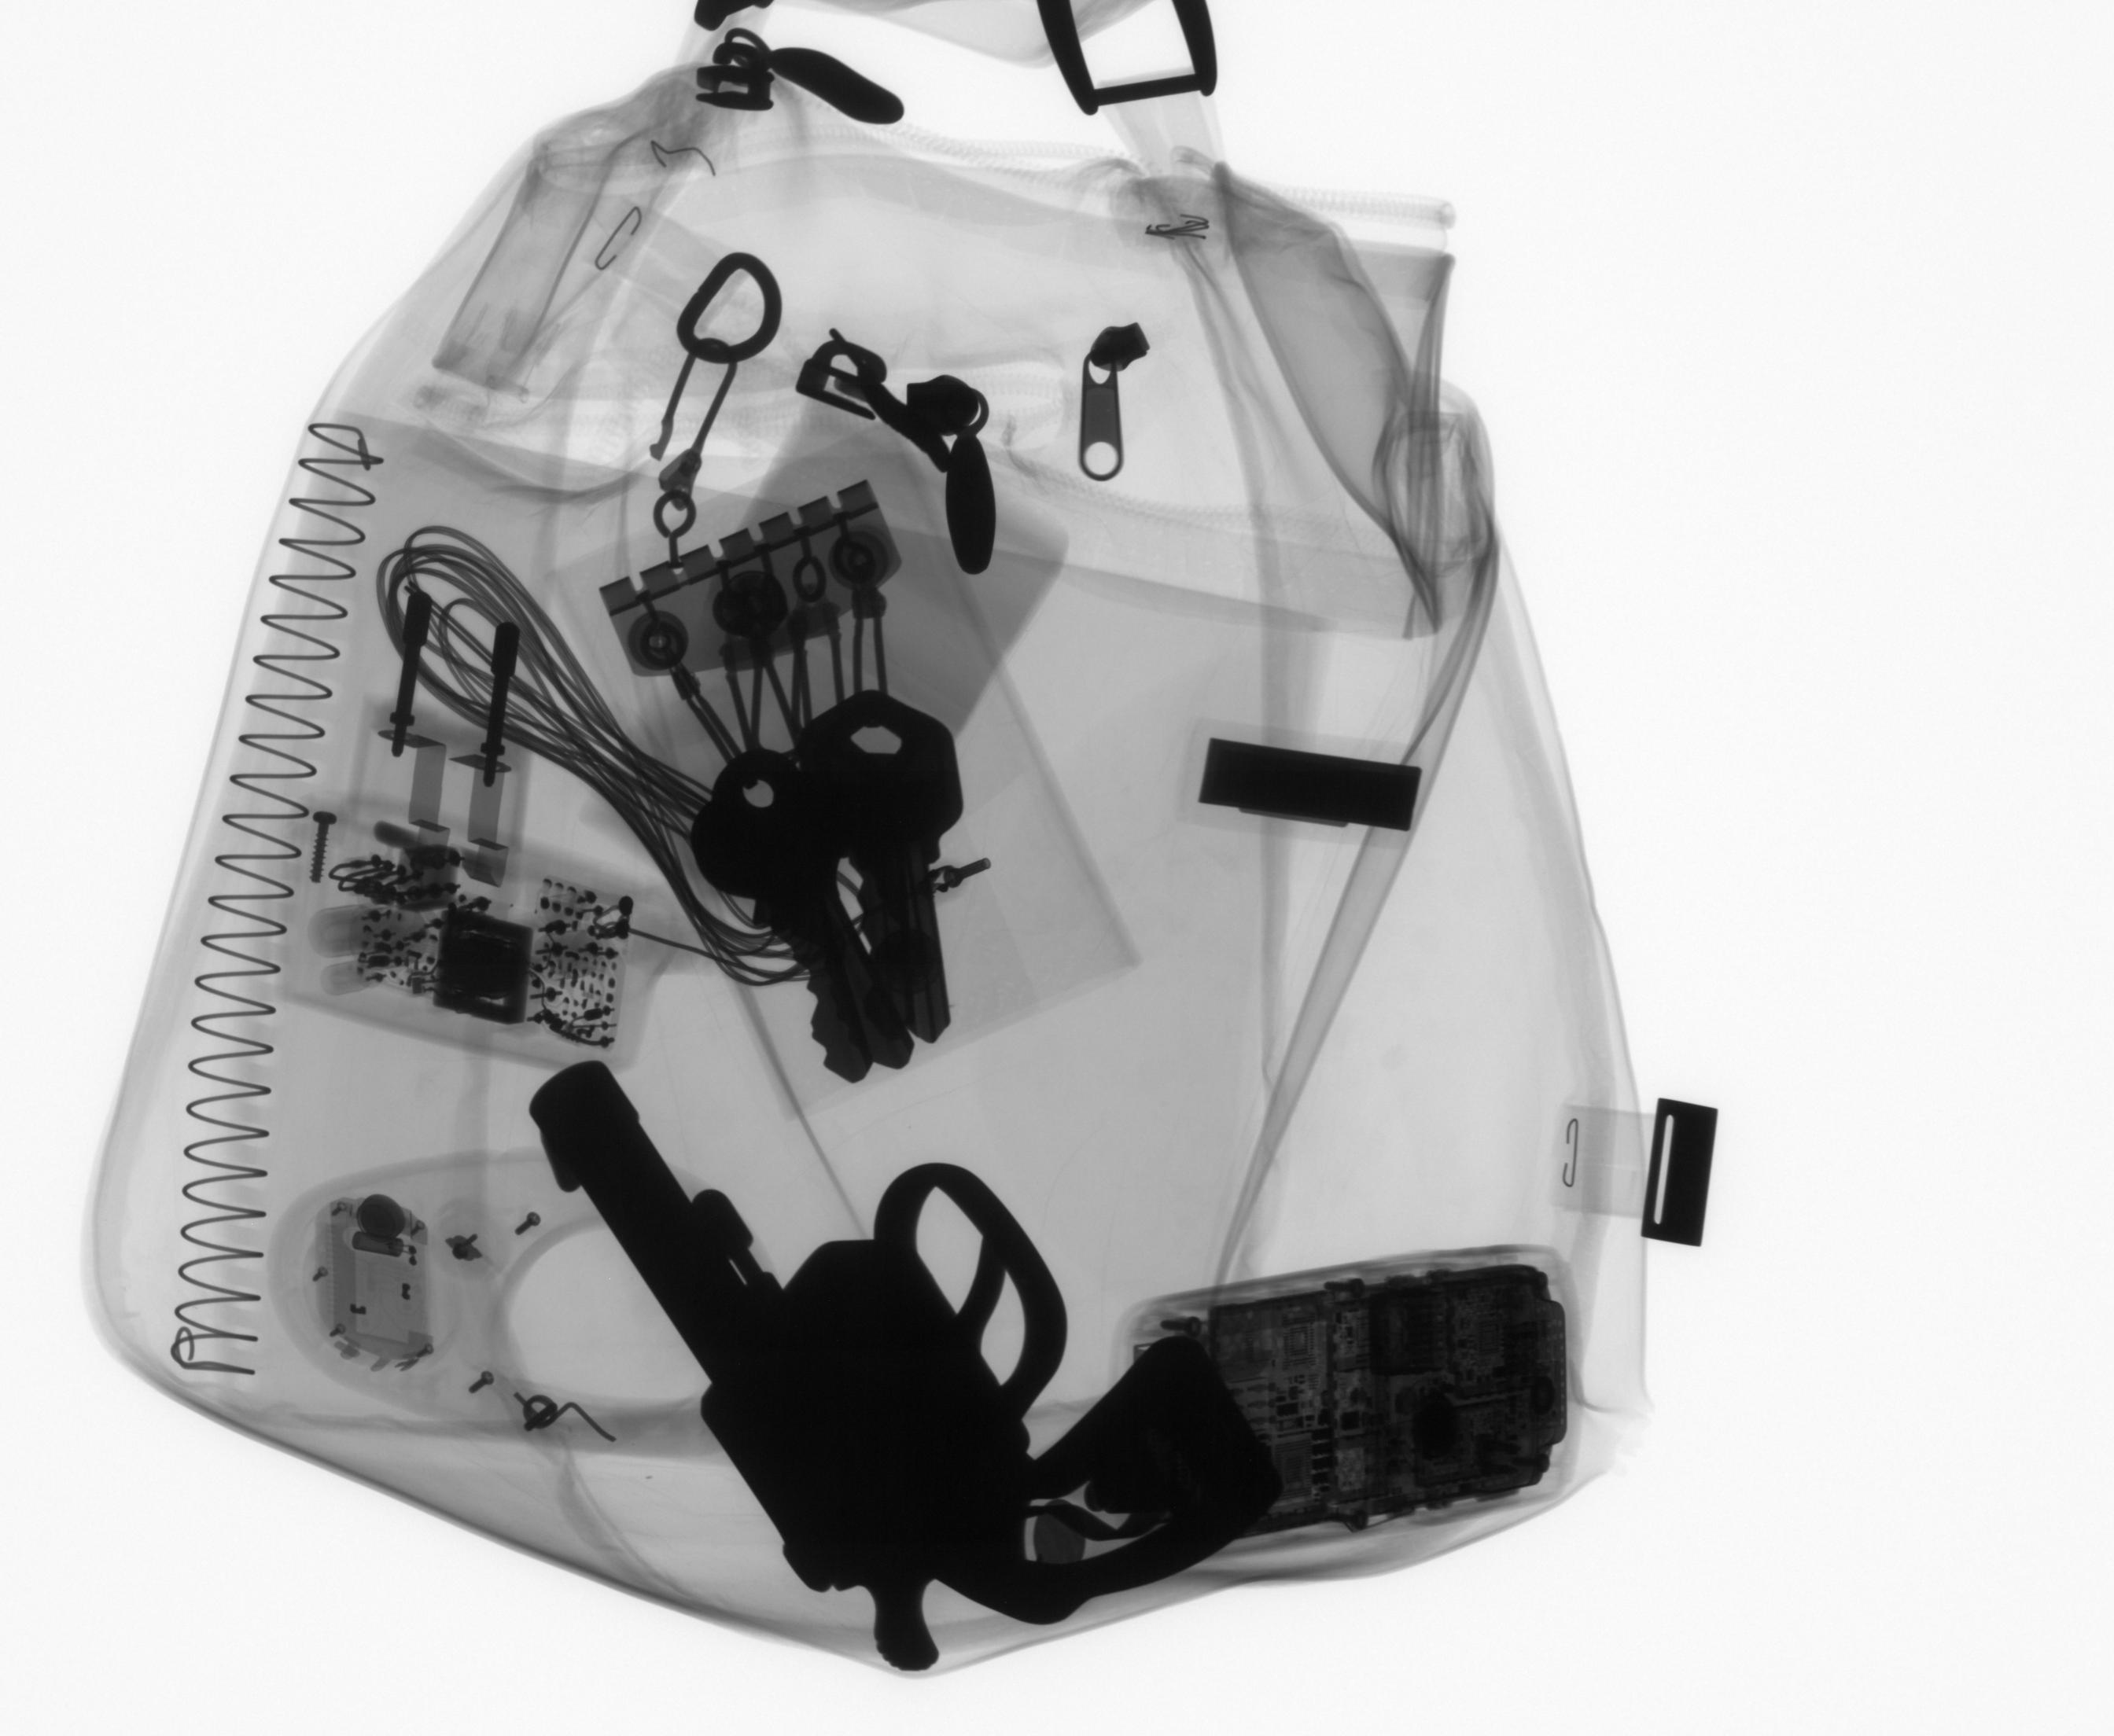Handgun: (519, 1054, 1291, 1680)
